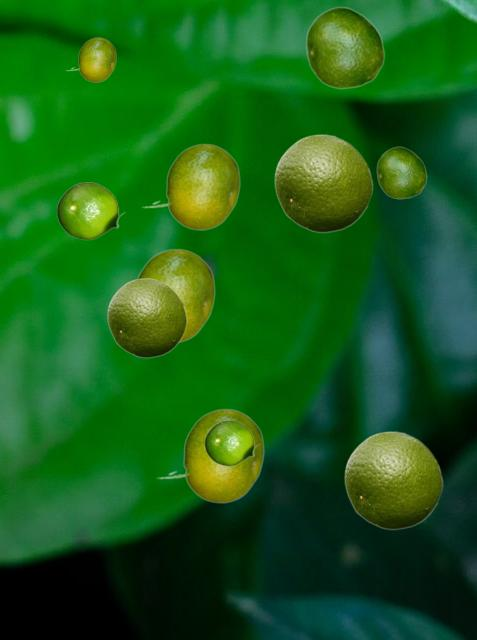calamansi: (156, 408, 263, 502), (274, 133, 372, 232), (344, 430, 442, 529), (141, 143, 239, 229), (137, 248, 214, 342), (305, 6, 384, 88), (107, 277, 186, 357), (56, 182, 125, 239), (376, 146, 426, 198), (204, 420, 259, 465), (65, 37, 115, 81)
